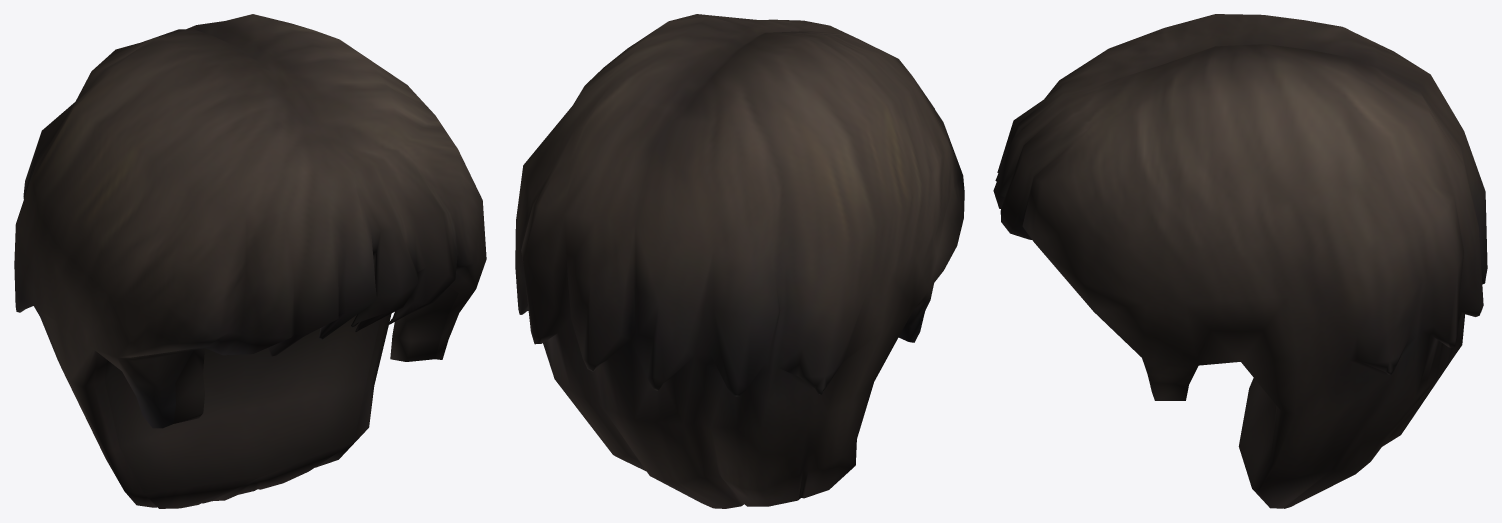
3 renders of one model, left to right at view 1: azimuth 30°, elevation 25°; view 2: azimuth 150°, elevation 25°; view 3: azimuth 270°, elevation 25°, orthographic. The views are drawn at different scales.
Visible parts, largest first — view 1: H_Q3_M_Hr_5000; view 2: H_Q3_M_Hr_5000; view 3: H_Q3_M_Hr_5000.
Boxes of the visible parts, x1,y1,x2,y2 form: H_Q3_M_Hr_5000: (14, 14, 486, 508); H_Q3_M_Hr_5000: (515, 14, 964, 508); H_Q3_M_Hr_5000: (993, 14, 1487, 508).
Bounding box in the file's own units: 24.55 × 30.76 × 31.06.
